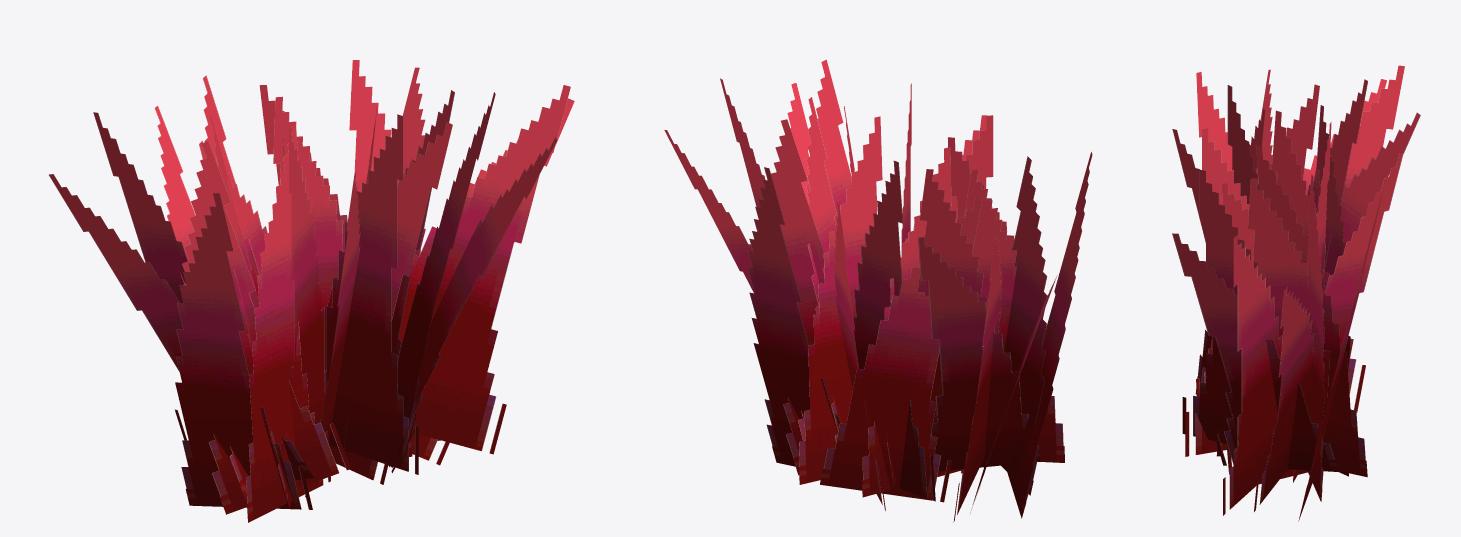
Rendered from GrassHeavy.obj.
3 renders of one model, left to right at view 1: azimuth 30°, elevation 25°; view 2: azimuth 150°, elevation 25°; view 3: azimuth 270°, elevation 25°, orthographic. The views are drawn at different scales.
Parts seen in each view (by area): view 1: Plane.001; view 2: Plane.001; view 3: Plane.001.
Boxes of the visible parts, bbox=[...] form: Plane.001: bbox=[49, 60, 574, 522]; Plane.001: bbox=[664, 59, 1092, 522]; Plane.001: bbox=[1172, 65, 1420, 521].
Size of the model in its own units: 4.71 by 3.71 by 2.55.
